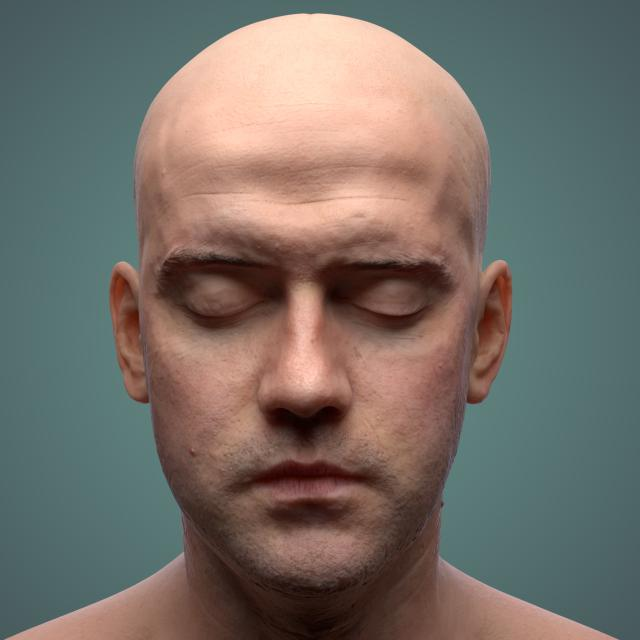no_helmet: (109, 0, 533, 260)
